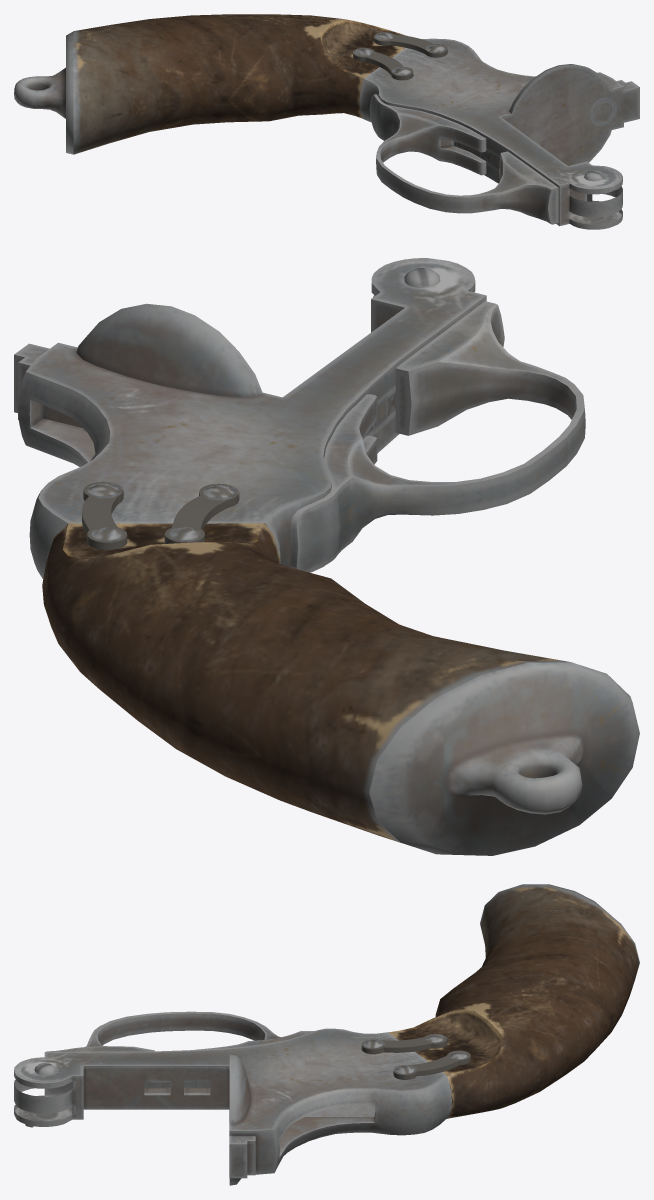
The model's file is SM_RageBull_01a.fbx.
The picture shows the model from 3 angles, top to bottom: view 1: azimuth 30°, elevation 25°; view 2: azimuth 150°, elevation 25°; view 3: azimuth 270°, elevation 25°; orthographic projection. The views are drawn at different scales.
Visible parts, largest first — view 1: SM_RageBull_01a_LOD0; view 2: SM_RageBull_01a_LOD0; view 3: SM_RageBull_01a_LOD0.
Part boxes in pixels (box(x1,y1,x2,y2)): SM_RageBull_01a_LOD0: box(14, 14, 639, 229); SM_RageBull_01a_LOD0: box(14, 258, 639, 855); SM_RageBull_01a_LOD0: box(14, 884, 639, 1185).
Bounding box in the file's own units: 18.74 × 20.34 × 4.3.
